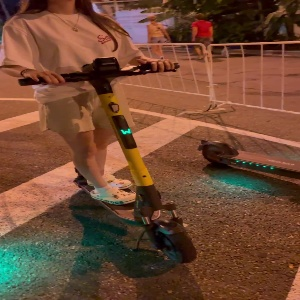human on a scooter: (1, 1, 198, 266)
